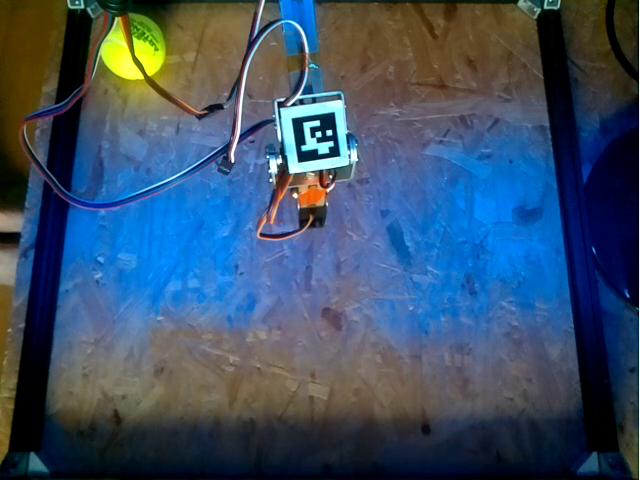tennis_ball: (98, 15, 167, 80)
